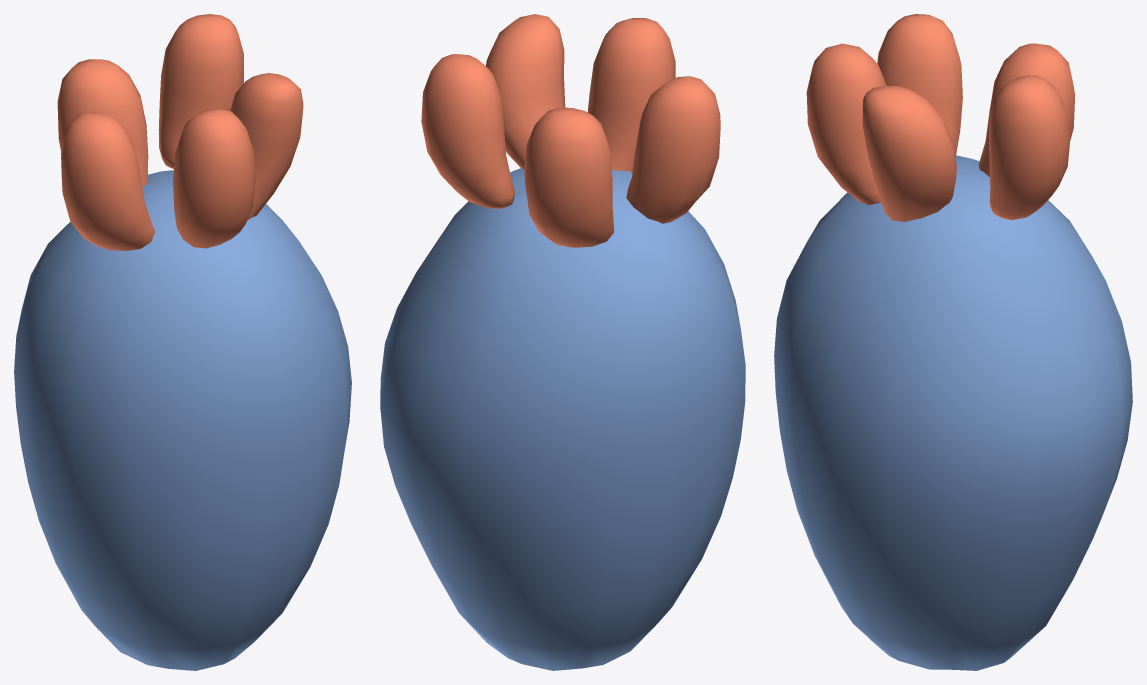
The model's file is Sponge_A_02.fbx.
3 views of the same model, side by side, from view 1: azimuth 30°, elevation 25°; view 2: azimuth 150°, elevation 25°; view 3: azimuth 270°, elevation 25° (orthographic). The views are drawn at different scales.
Visible parts, largest first — view 1: Sponge_A_02_LOD0; view 2: Sponge_A_02_LOD0; view 3: Sponge_A_02_LOD0.
Part boxes in pixels (x1=…): Sponge_A_02_LOD0: x1=14, y1=14, x2=351, y2=670; Sponge_A_02_LOD0: x1=380, y1=14, x2=745, y2=670; Sponge_A_02_LOD0: x1=774, y1=14, x2=1132, y2=670.
Size of what is drawn, in the model's own units: 241 by 455 by 241.
